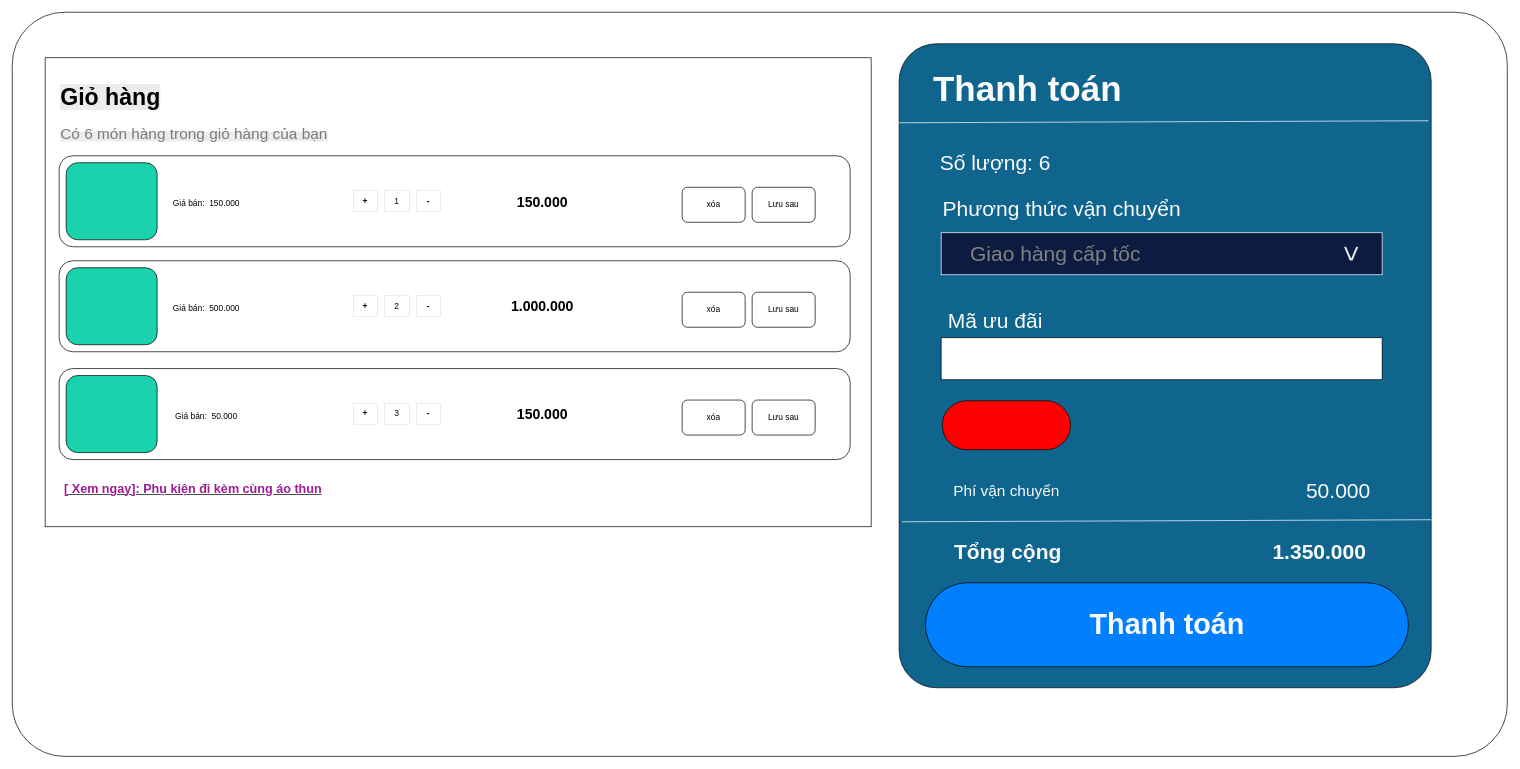
The diagram is 1520 pixels wide and 769 high, and some of its shapes have lost their labels. Each missing label, with the box of its shape:
Nhập mã ưu đãi của bạn: (940, 337, 1382, 380)
Áp dụng: (942, 400, 1071, 450)
